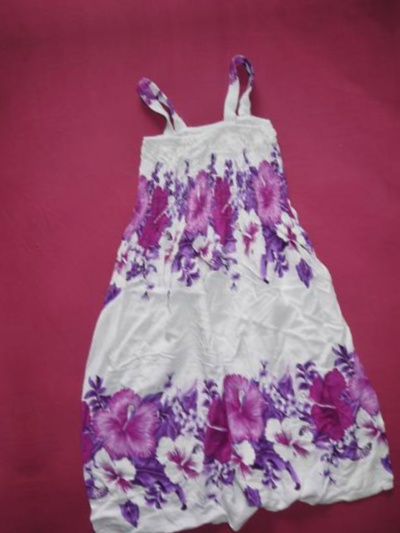Dress: (16, 49, 400, 533), (0, 96, 10, 533)
